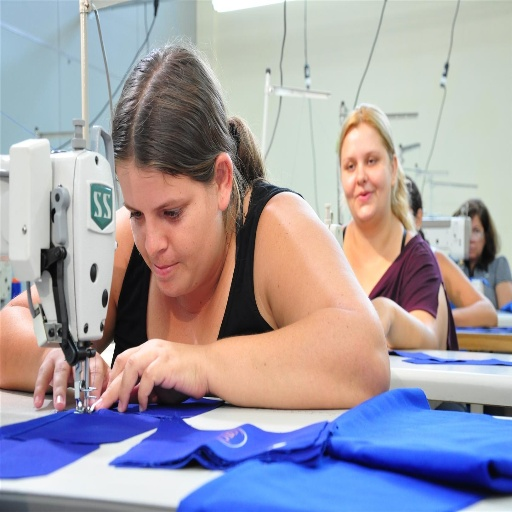hand: (91, 336, 208, 412), (32, 345, 110, 411), (370, 295, 391, 339)
